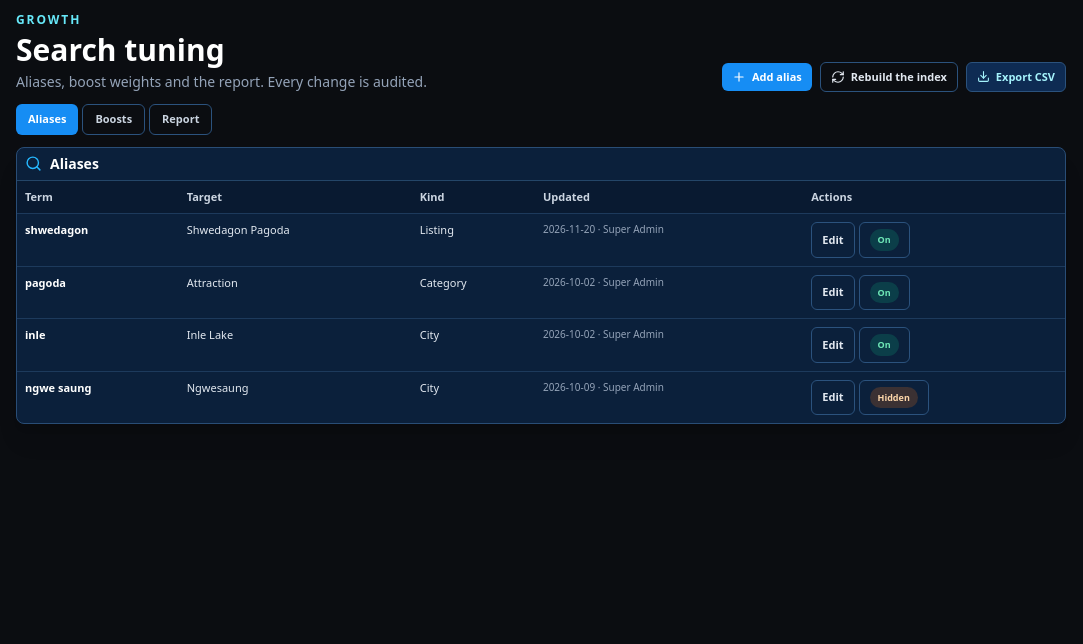
Scenario: Search tuning (O-67, §3A.12) › refuses a duplicate alias term in the form
Click the button "Add alias". click: click(767, 77)
box: [722,62,812,91]
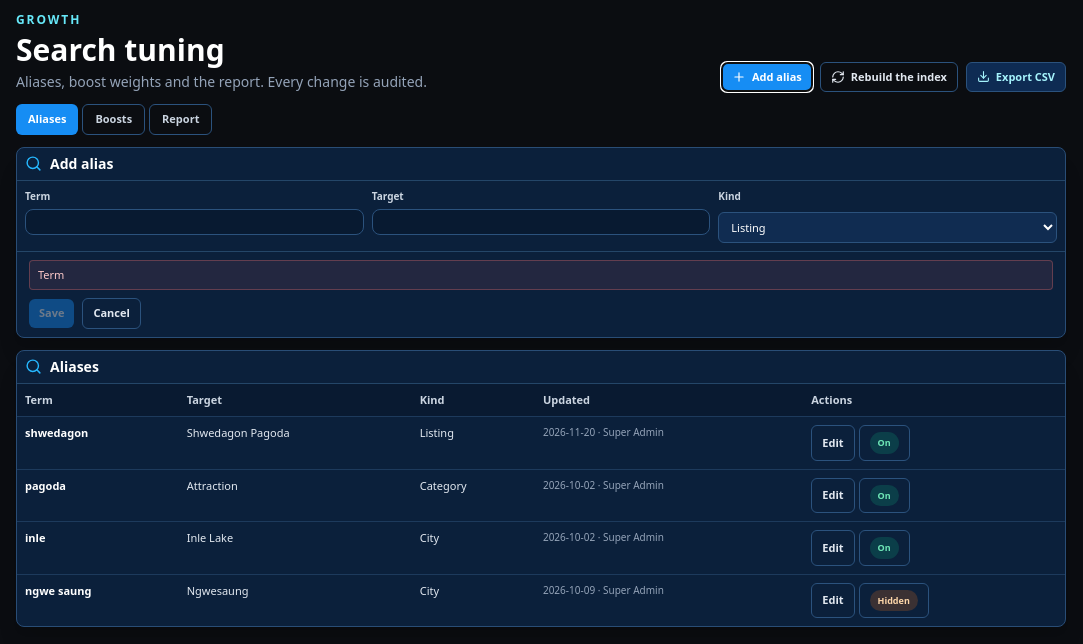
Type "Shwedagon" into the field labelled "Term". click: (194, 222)
box: [25,208,364,235]
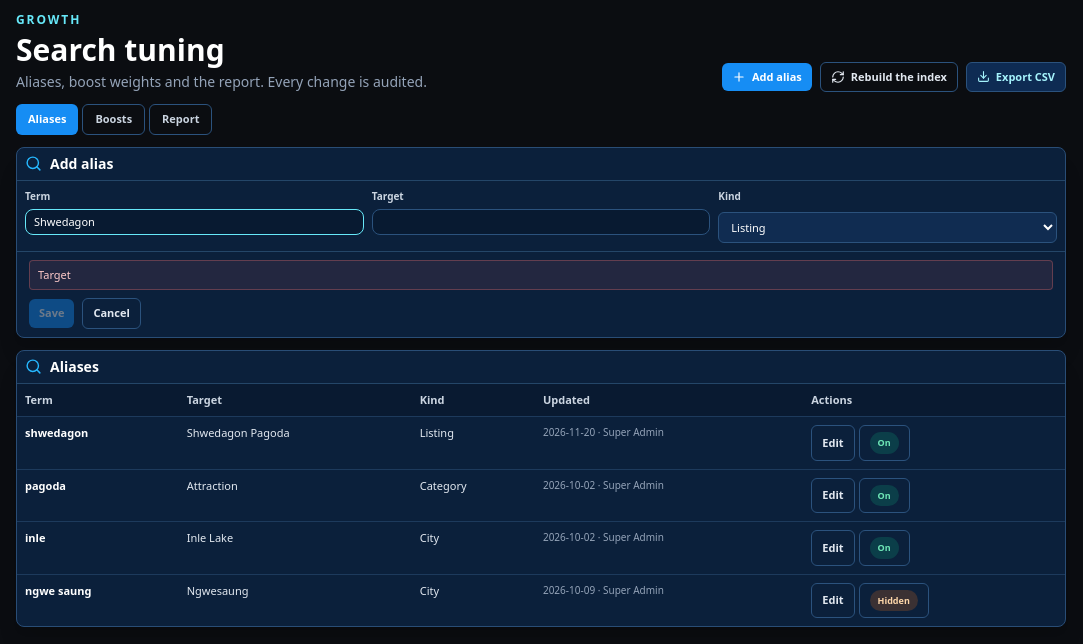
Type "Bagan" into the field labelled "Target". click: (541, 222)
box: [372,208,710,235]
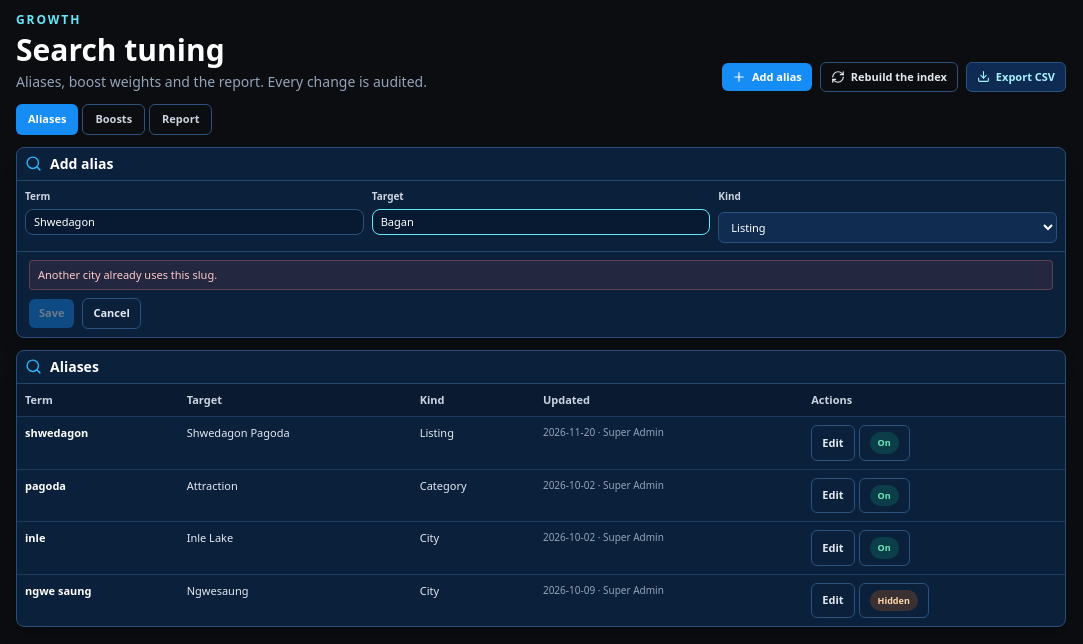
expect the button "Save" is disabled: met, box [29,299,74,328]
expect the message reads "Another city already uses this slug.": met, box [38,266,217,282]
